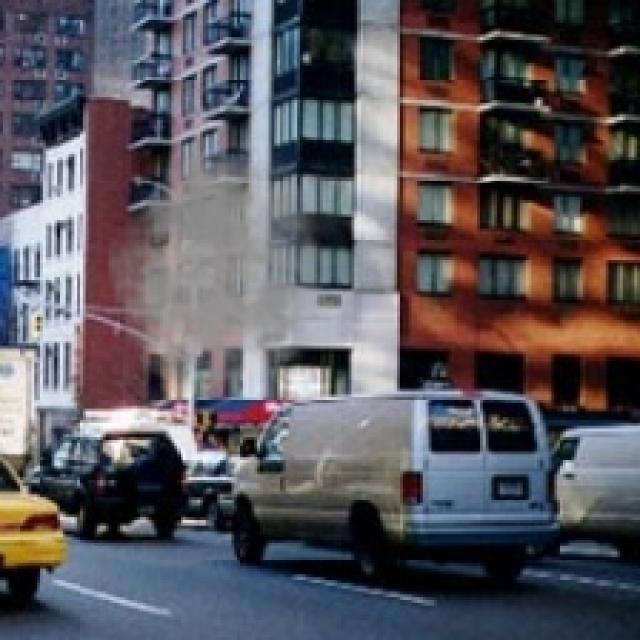Smoke: (106, 126, 352, 400)
